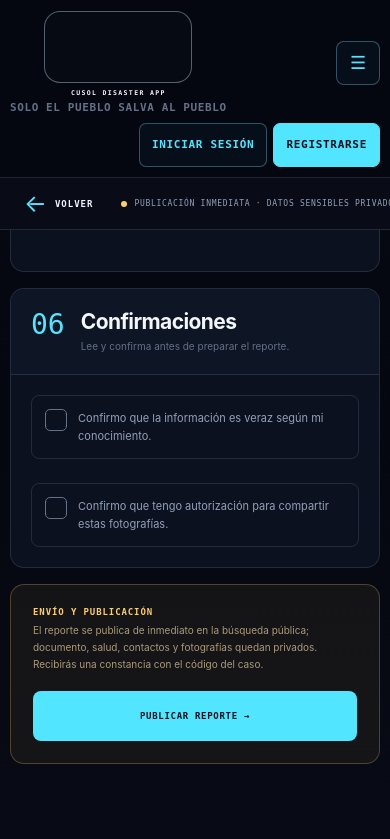
it: Reporte de persona perdida › resalta los campos con error al intentar publicar
The image size is (390, 839).
(page scrolled)
Step 1. Click the button "PUBLICAR REPORTE →" → (195, 716), box [33,691,357,741]
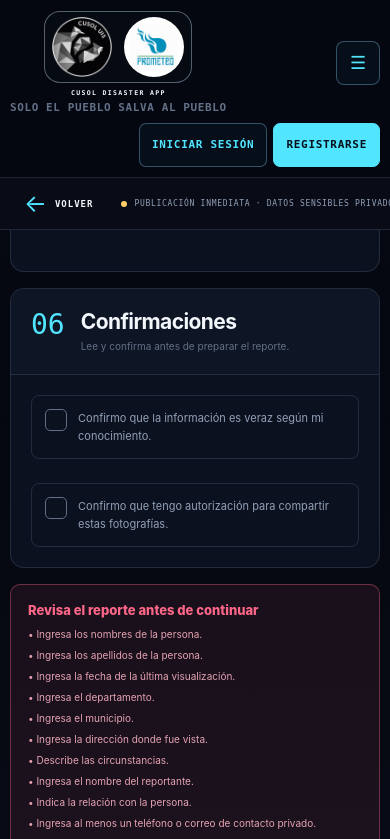
Now the text "Revisa el reporte antes de continuar" is shown, box [28,602,259,618]
Now the text "• Ingresa al menos un teléfono o correo de contacto privado." is shown, box [28,815,362,831]
